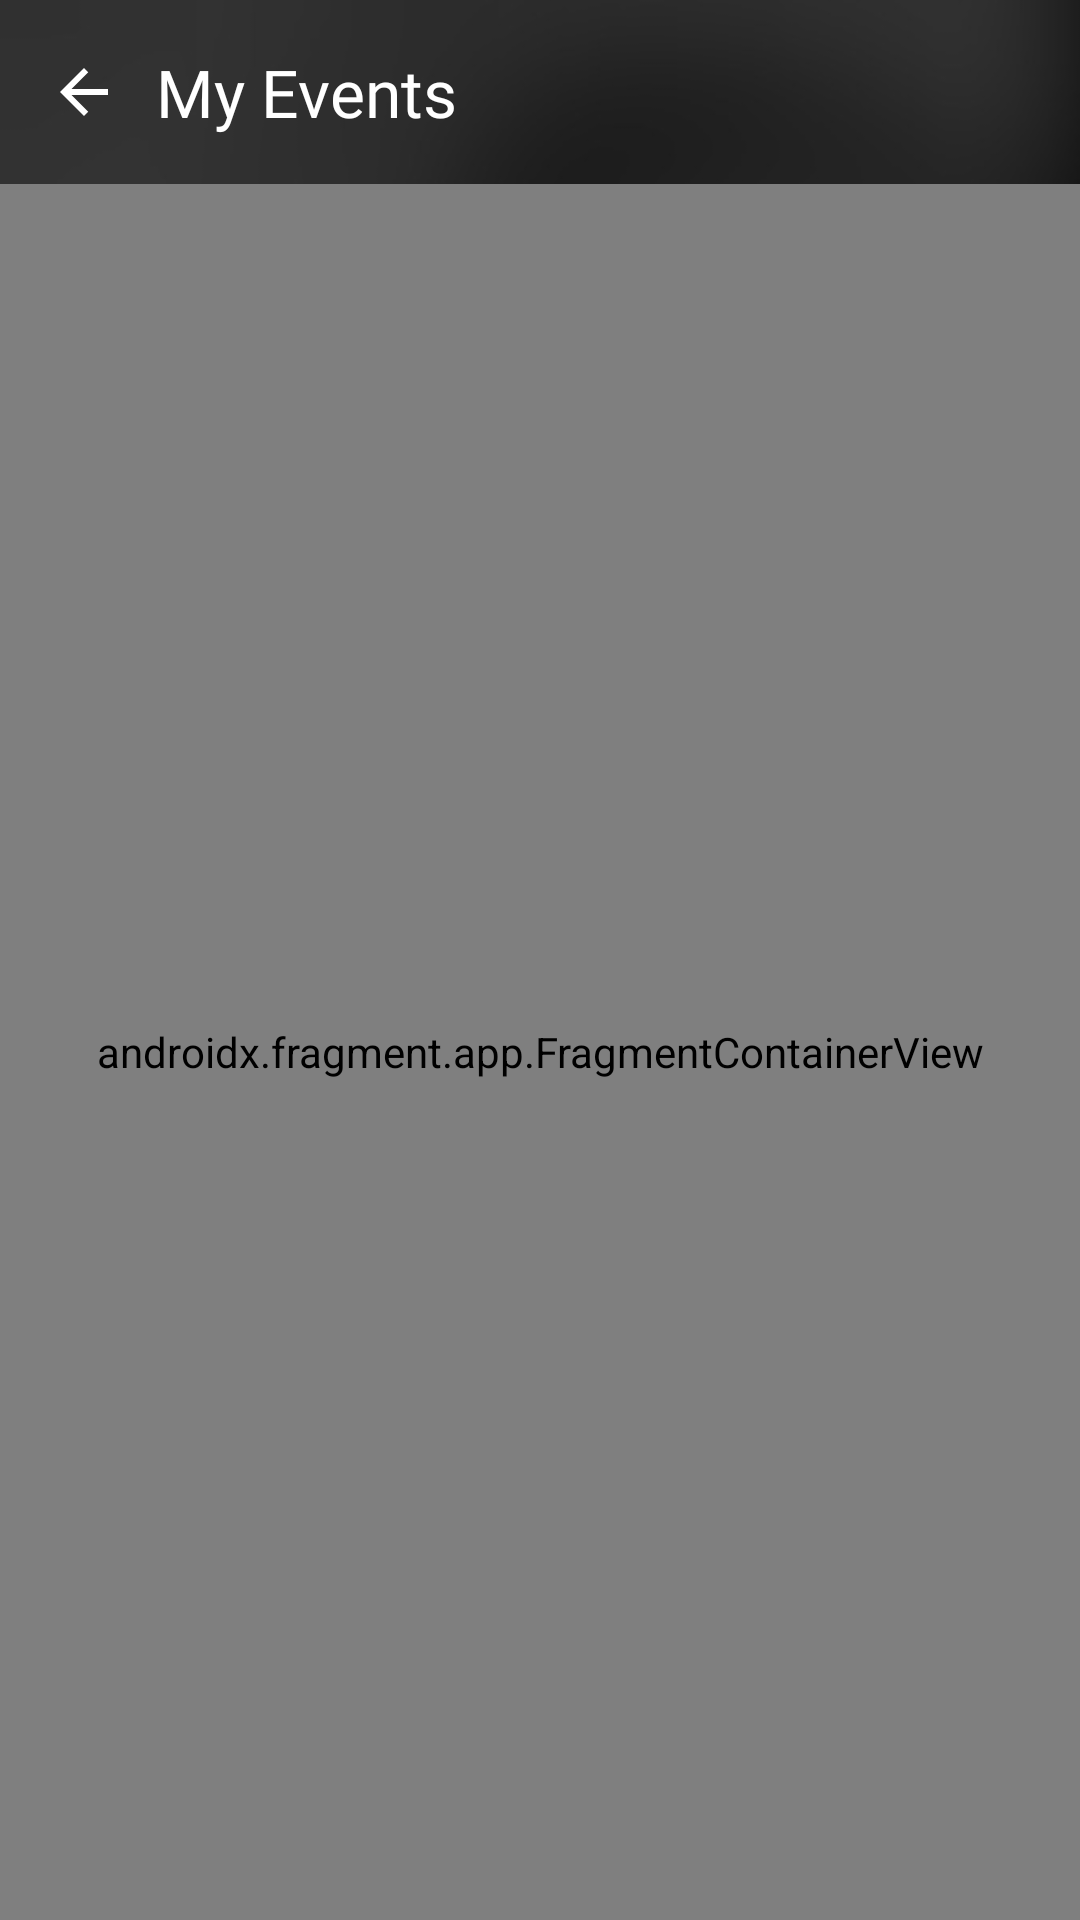

Icon click points for this 1080px x 1920px phone screenshot, format [x,y]:
Back Button: [84,92]
